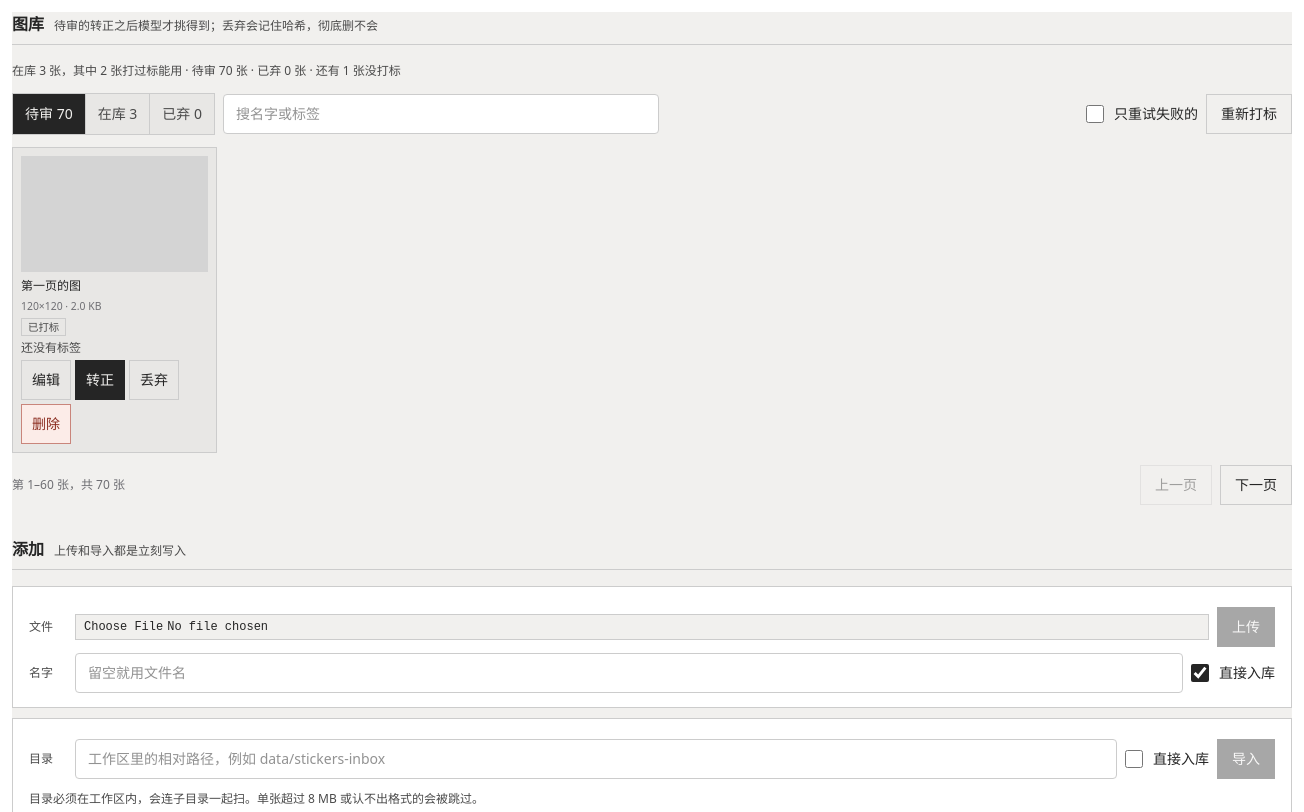
Test: 图库只认最后发出的那次读 › 翻页：慢回来的上一页不覆盖翻回来的这一页
Expected: the text "第一页的图" is shown, [21,277,81,294]
Click the button "下一页" at (1256, 485), box [1220,465,1292,505]
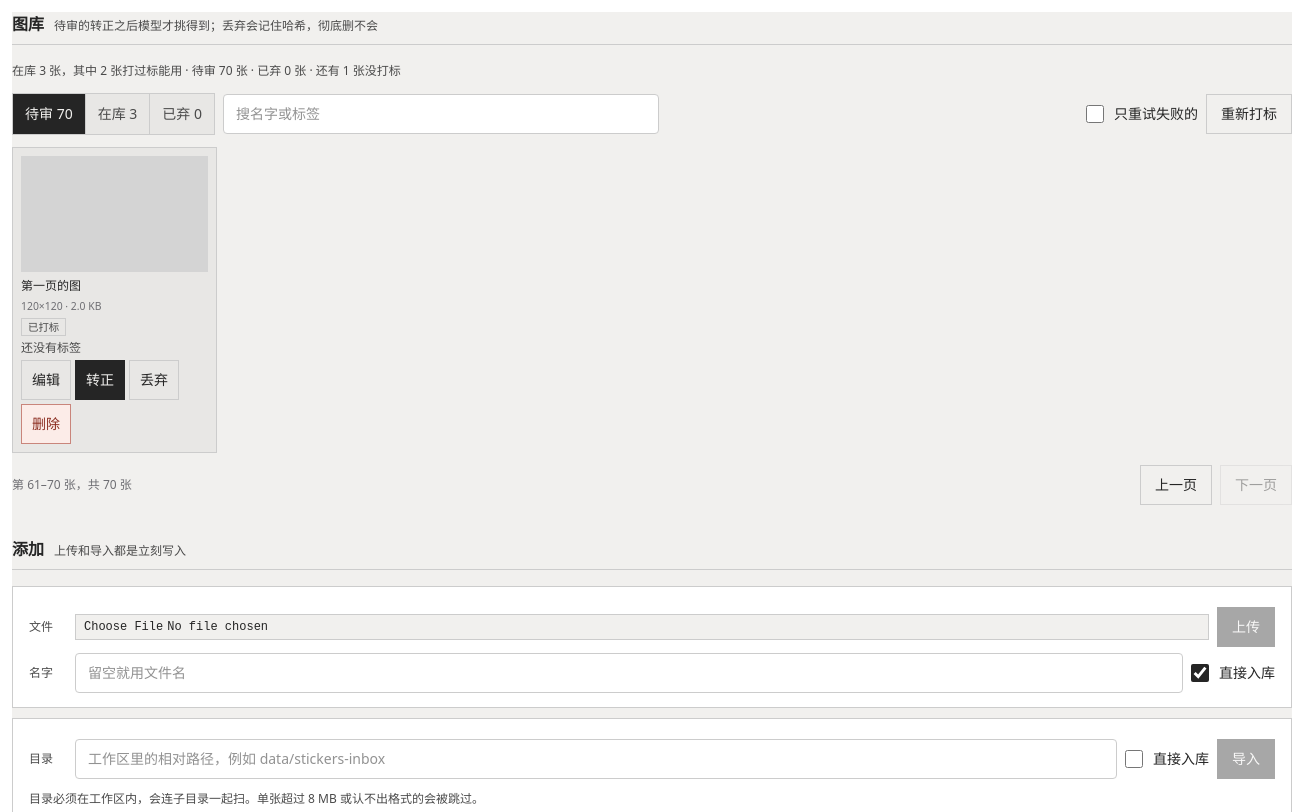
Click the button "上一页" at (1176, 485), box [1140,465,1212,505]
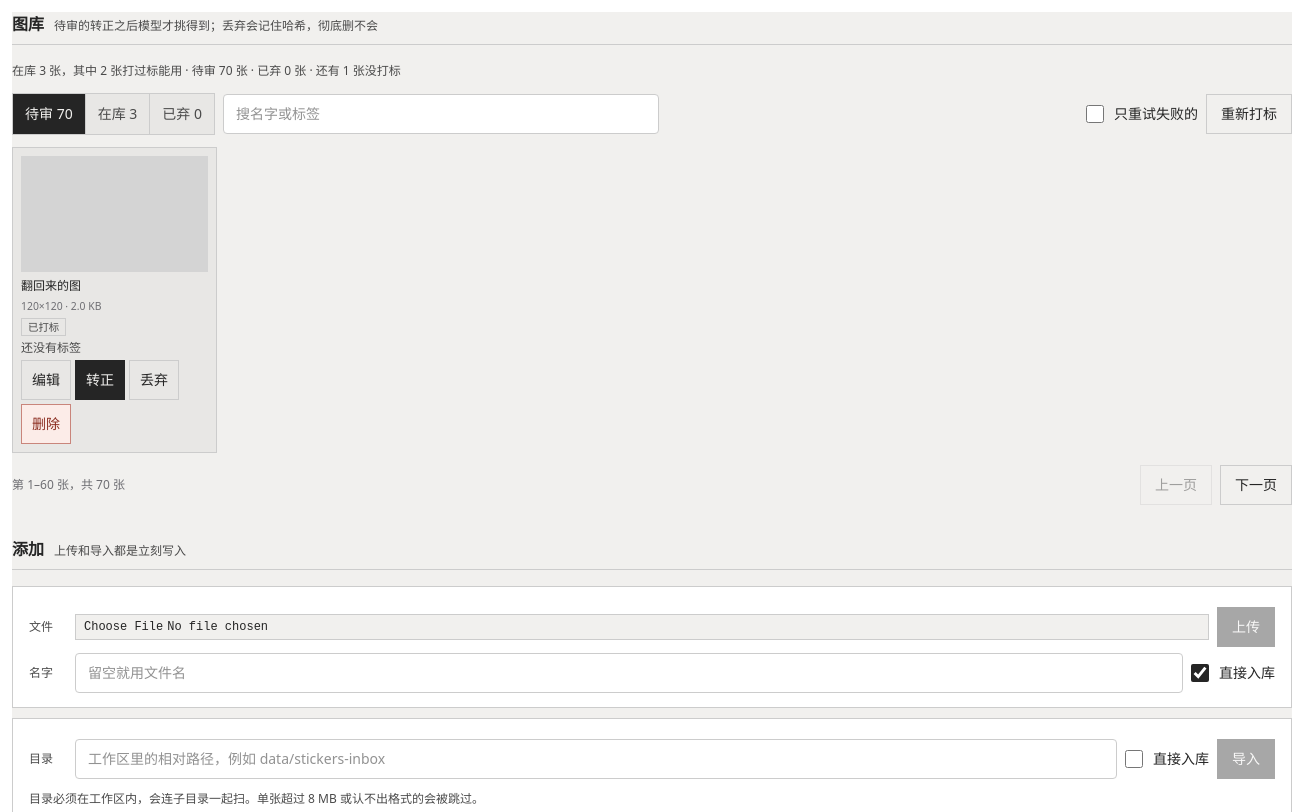
Expected: the button "待审 70" is shown, [13,94,85,134]
Now the text "翻回来的图" is shown, box [21,277,81,294]
